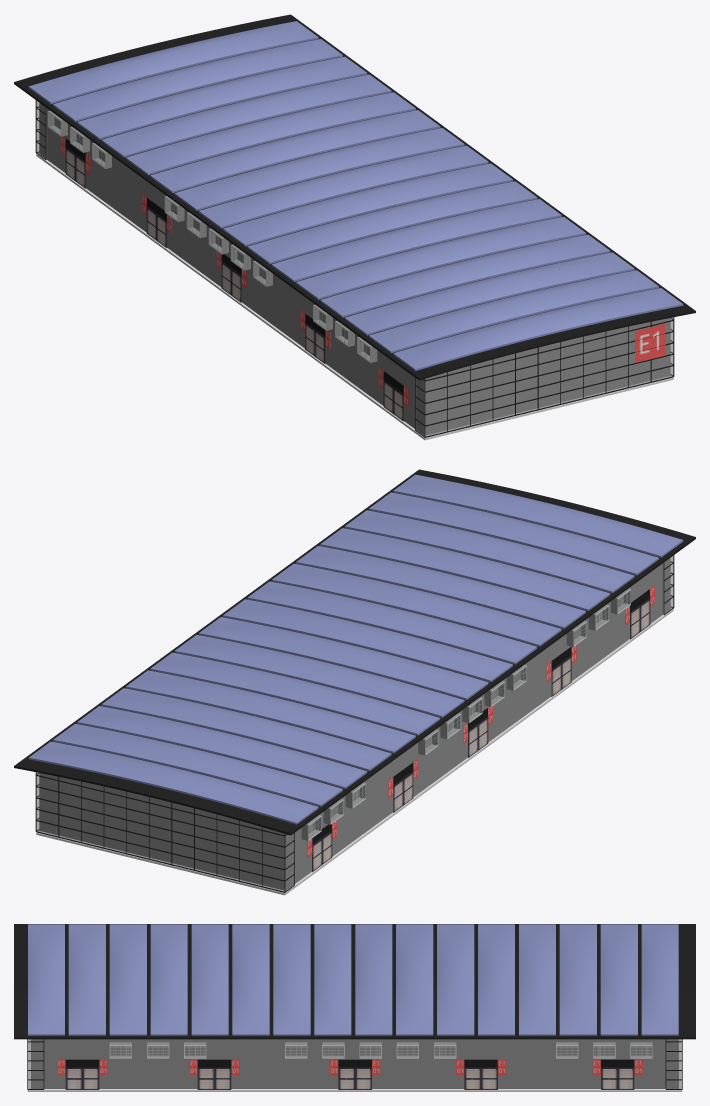
The model's file is shniec.FBX.
3 views of the same model, one above another, from view 1: azimuth 30°, elevation 25°; view 2: azimuth 150°, elevation 25°; view 3: azimuth 270°, elevation 25° (orthographic). The views are drawn at different scales.
Visible parts, largest first — view 1: COLOR_BOX, room_glass, roof, roof_decoration, roof_decoration002, roof_decoration013, roof_decoration010, roof_decoration014, roof_decoration015, roof_decoration001, roof_decoration006, roof_decoration008 (+11 smaller); view 2: COLOR_BOX, room_glass, roof, sidewall, roof_decoration015, roof_decoration011, roof_decoration007, roof_decoration008, roof_decoration006, roof_decoration010, roof_decoration013, roof_decoration009 (+10 smaller); view 3: COLOR_BOX, roof, roof_decoration001, roof_decoration002, roof_decoration003, roof_decoration004, roof_decoration005, roof_decoration006, roof_decoration007, roof_decoration008, roof_decoration009, roof_decoration010 (+35 smaller).
Boxes of the visible parts, box(x1,y1,x2,y2) form: COLOR_BOX: box(39, 103, 670, 435); room_glass: box(36, 101, 673, 436); roof: box(14, 14, 695, 380); roof_decoration: box(393, 288, 683, 370); roof_decoration002: box(344, 252, 634, 335); roof_decoration013: box(77, 56, 367, 139); roof_decoration010: box(150, 110, 440, 193); roof_decoration014: box(53, 39, 342, 121); roof_decoration015: box(28, 21, 318, 103); roof_decoration001: box(369, 270, 658, 353); roof_decoration006: box(247, 181, 537, 264); roof_decoration008: box(199, 145, 488, 228); COLOR_BOX: box(39, 558, 670, 890); room_glass: box(36, 556, 673, 891); roof: box(14, 469, 695, 835); sidewall: box(295, 564, 662, 882); roof_decoration015: box(28, 741, 318, 824); roof_decoration011: box(126, 670, 415, 753); roof_decoration007: box(223, 599, 512, 682); roof_decoration008: box(199, 617, 488, 699); roof_decoration006: box(247, 581, 537, 664); roof_decoration010: box(150, 652, 440, 735); roof_decoration013: box(77, 706, 367, 788); roof_decoration009: box(174, 635, 464, 717); COLOR_BOX: box(31, 1039, 678, 1088); roof: box(14, 924, 695, 1039); roof_decoration001: box(68, 924, 105, 1035); roof_decoration002: box(109, 924, 146, 1035); roof_decoration003: box(150, 924, 187, 1035); roof_decoration004: box(191, 924, 228, 1035); roof_decoration005: box(232, 924, 269, 1035); roof_decoration006: box(273, 924, 310, 1035); roof_decoration007: box(314, 924, 351, 1035); roof_decoration008: box(355, 924, 392, 1035); roof_decoration009: box(396, 924, 433, 1035); roof_decoration010: box(437, 924, 474, 1035).
Bounding box in the file's own units: 72.36 × 20.93 × 183.
Materials: 64 (4 with a texture image).
